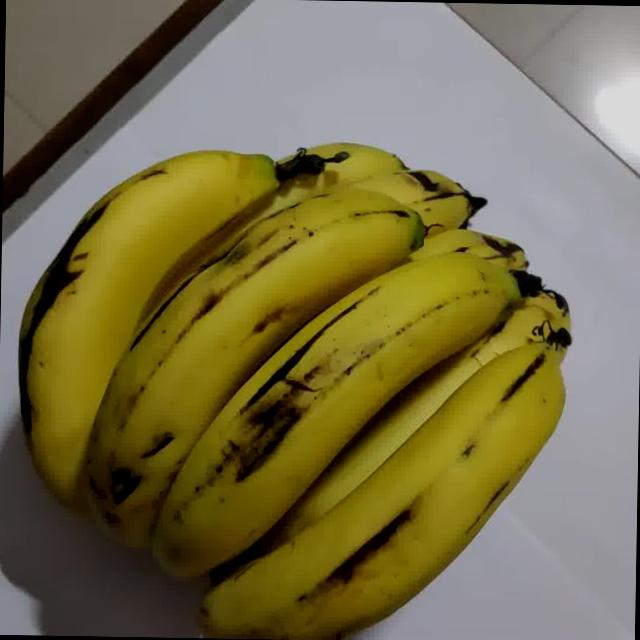banana_pacche: (0, 27, 569, 640)
